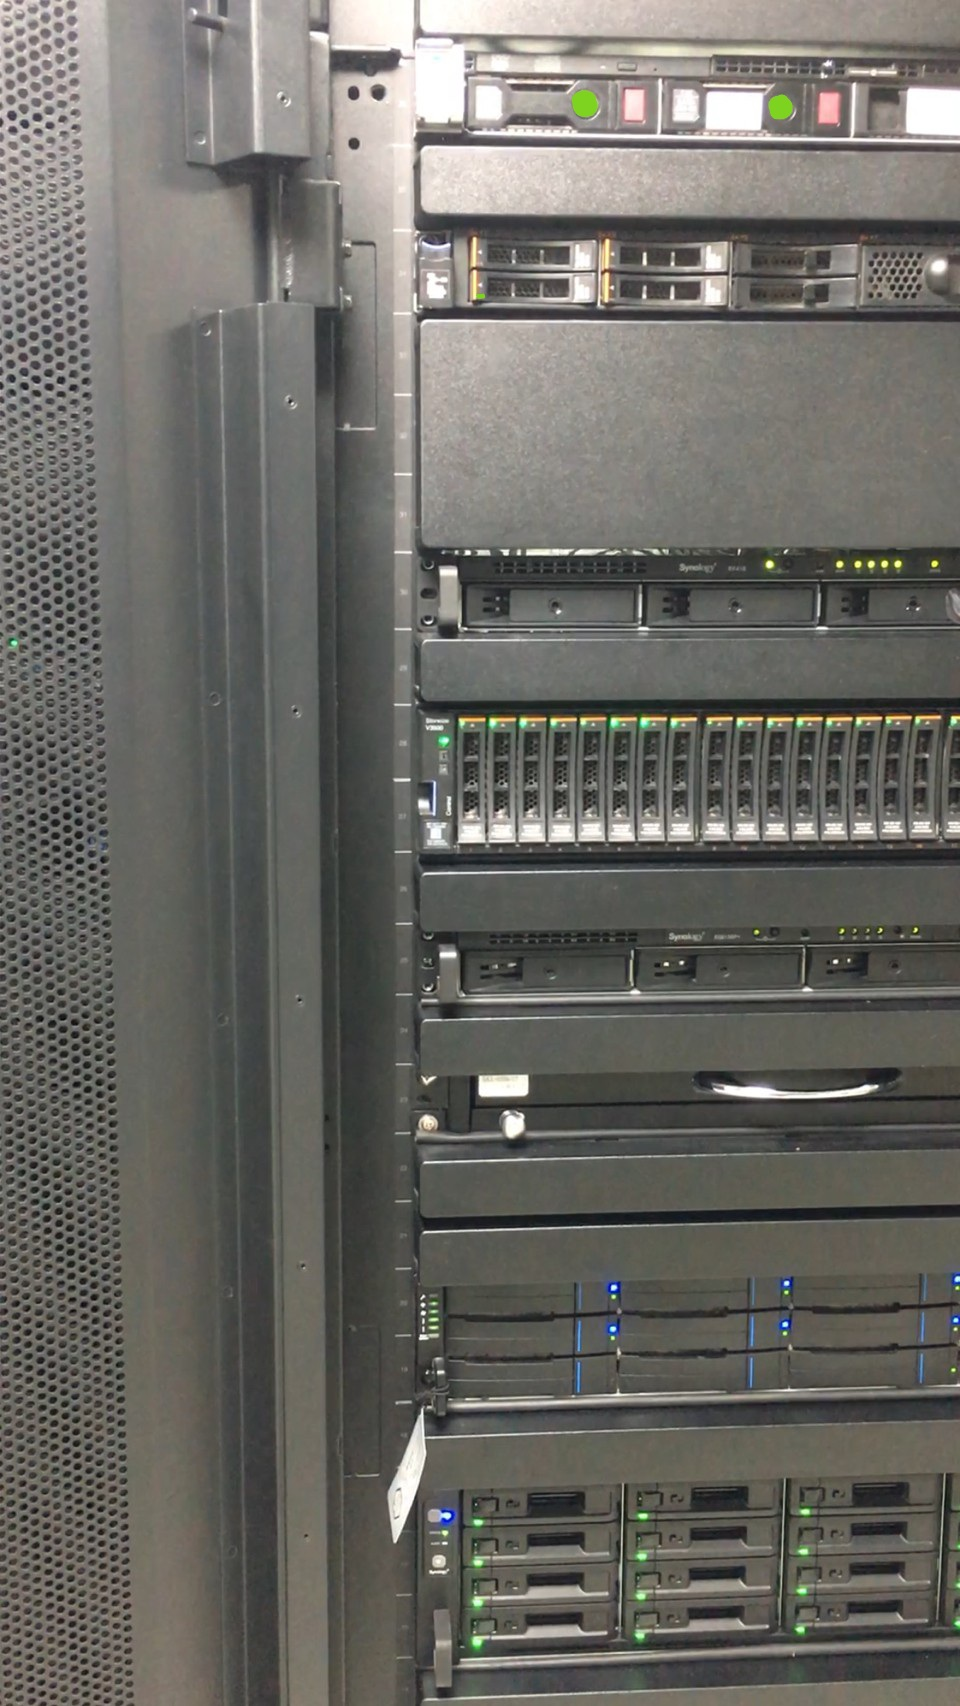HDD_Notused: (730, 269, 863, 312), (733, 234, 863, 277)
HDD_normal: (471, 266, 605, 316)
HDD_shut down: (599, 269, 731, 319), (601, 236, 734, 277), (471, 236, 595, 269)
